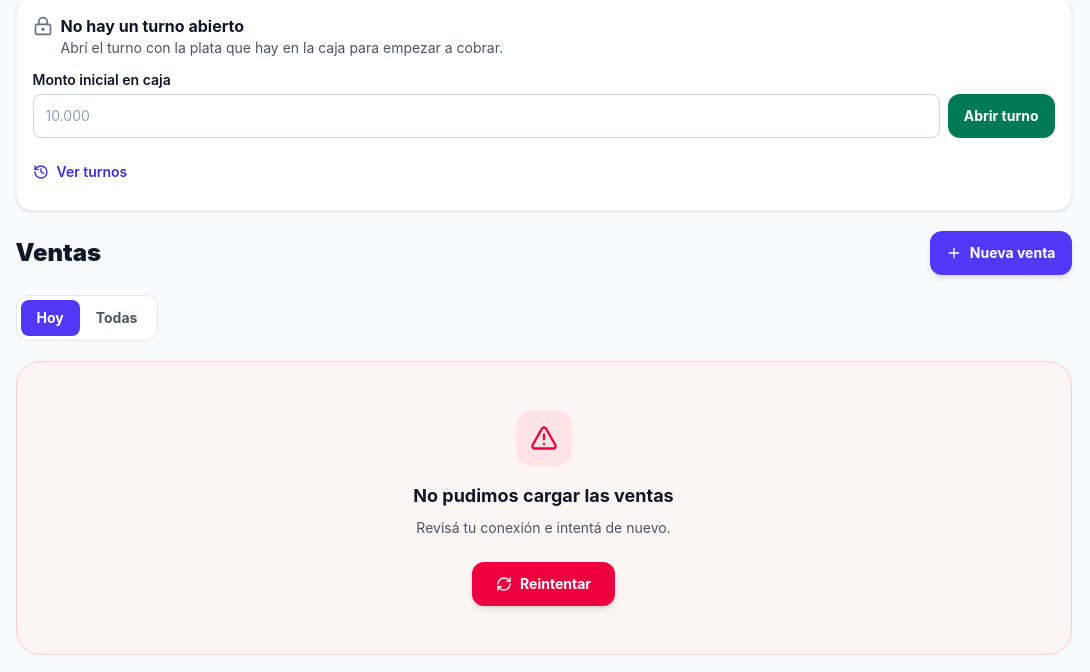
Historial de ventas (/ventas) › si falla, ofrece reintentar
Click the button "Reintentar" at [544, 584], box [472,562,615,606]
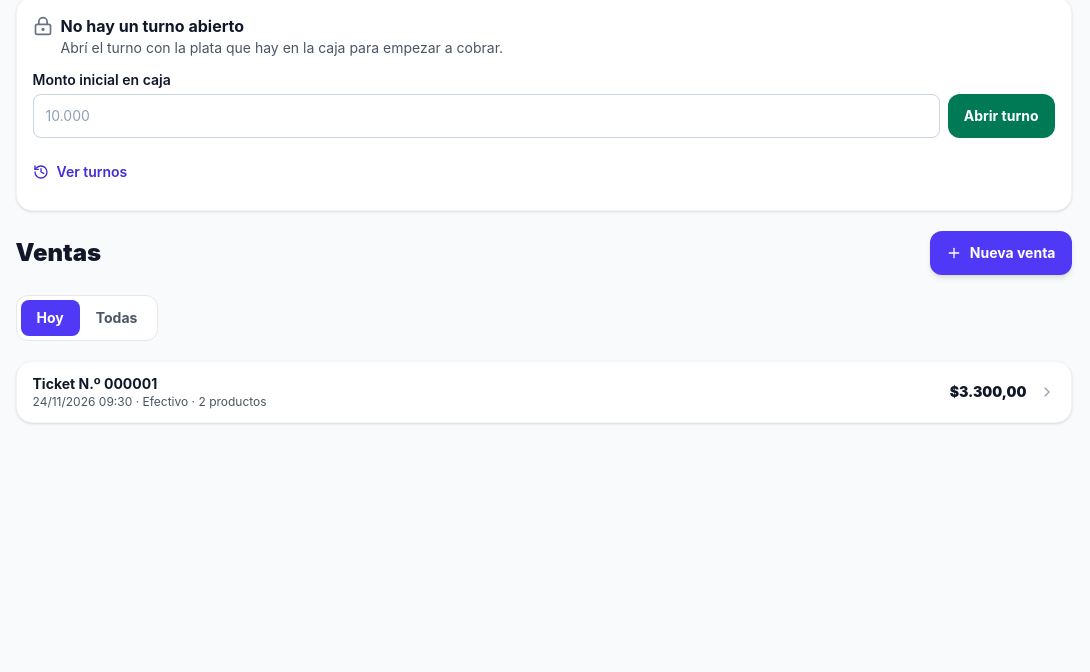
Now the link "000001" is shown, box [32,375,1054,409]
